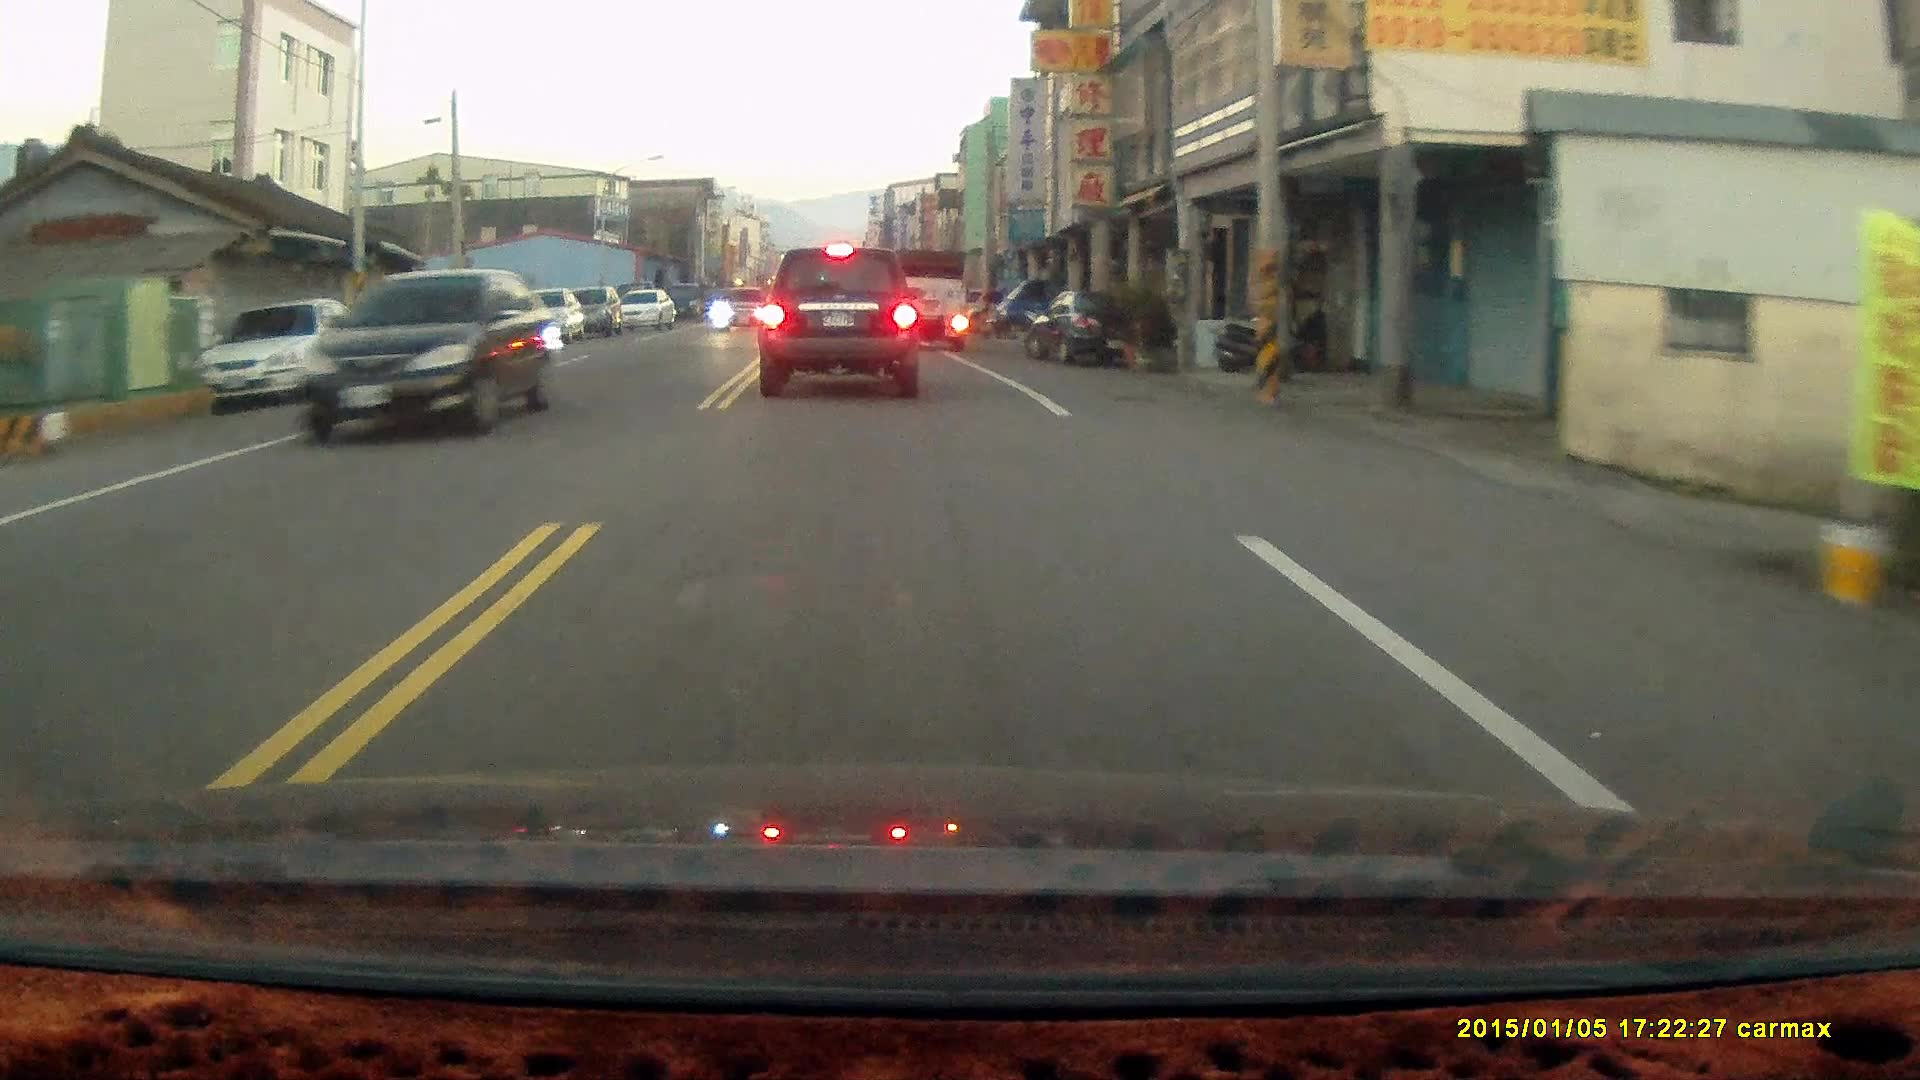vehicle: (295, 266, 549, 443), (756, 248, 920, 404), (204, 298, 375, 407), (1031, 293, 1160, 372), (887, 255, 973, 361), (554, 287, 625, 340), (709, 287, 778, 335), (615, 289, 676, 334)
